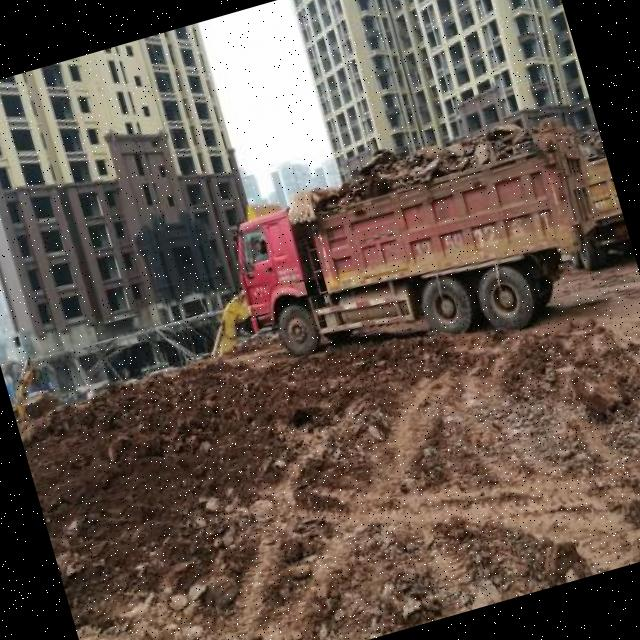Dump Truck: (224, 108, 618, 394), (534, 128, 636, 281)
